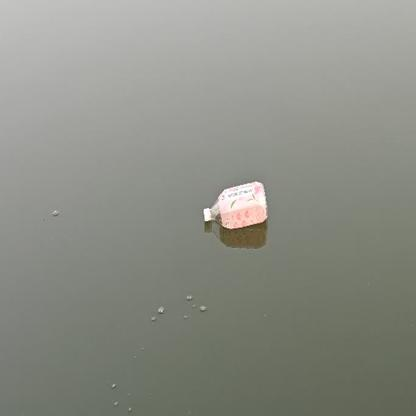plastic bottle: (202, 183, 269, 230)
